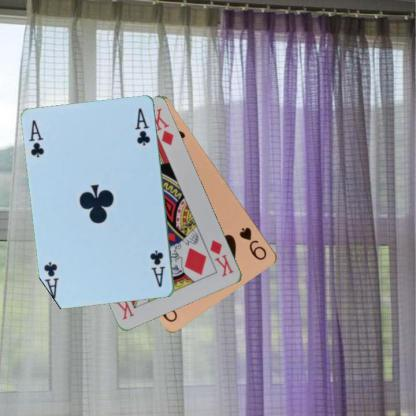9s: (237, 224, 269, 262)
Ac: (26, 117, 46, 159), (147, 248, 167, 288)
Kd: (207, 237, 236, 278)
